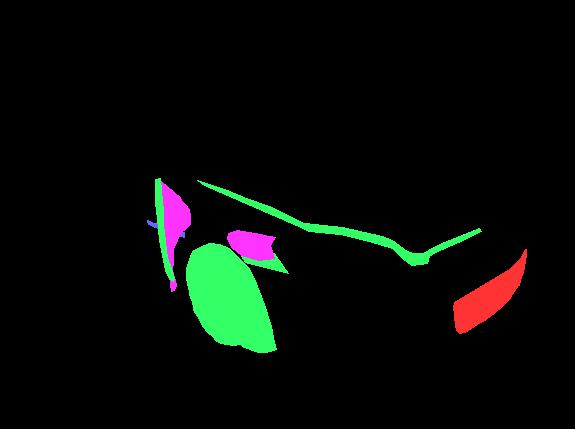Broken part: (197, 180, 481, 265), (186, 243, 276, 352), (155, 178, 174, 281), (233, 243, 288, 273)
Dent: (158, 179, 190, 291), (227, 230, 275, 260)
Missing part: (453, 249, 526, 333)
Scratch: (166, 226, 184, 237), (147, 220, 160, 229)
